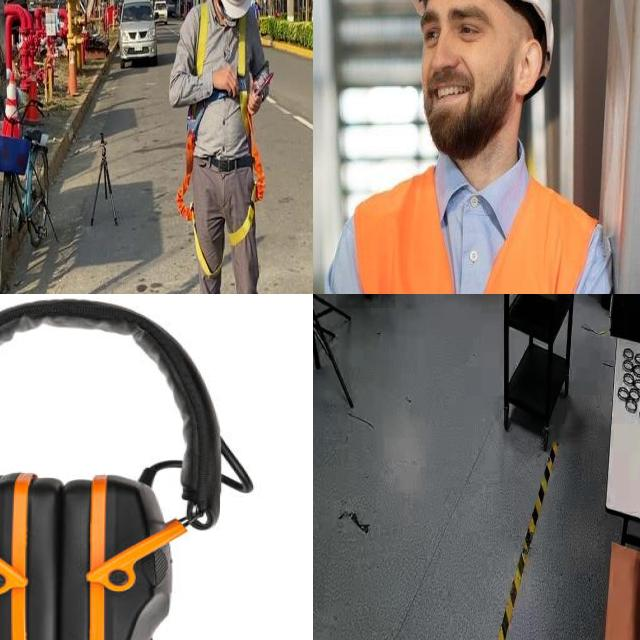Ear-protection: (0, 300, 273, 640)
Harness: (176, 15, 266, 248)
No_Ear-Protection: (505, 29, 550, 110)
No_Glasses: (413, 5, 492, 56)
